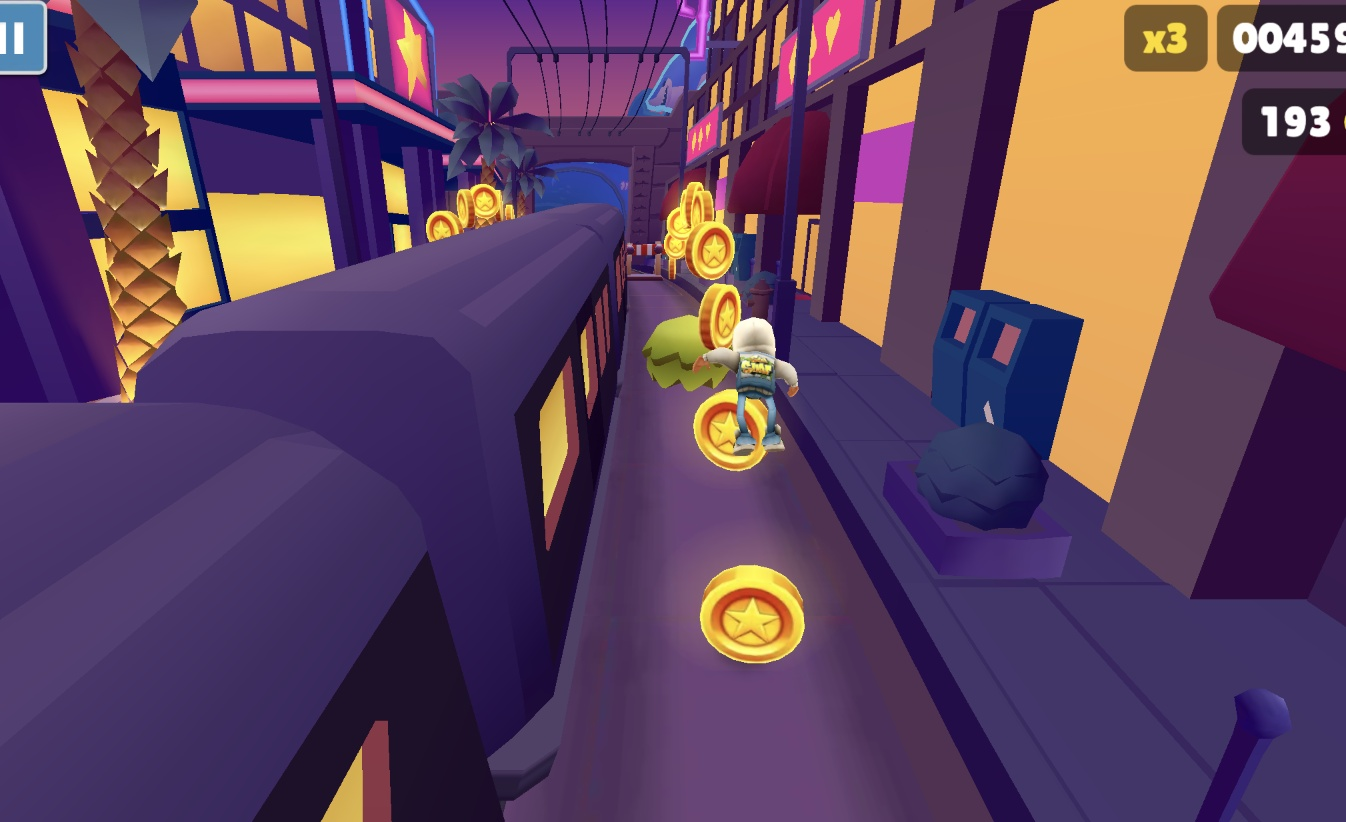bush: (641, 315, 734, 391)
ground_barrier: (624, 243, 664, 279)
train: (0, 202, 626, 822)
